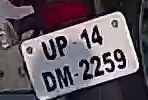1: (81, 29, 94, 51)
2: (77, 56, 94, 82), (90, 56, 105, 81)
4: (91, 26, 106, 47)
5: (102, 51, 116, 76)
9: (112, 48, 129, 70)
D: (41, 71, 58, 93)
M: (56, 64, 75, 91)
P: (56, 37, 71, 60)
U: (42, 39, 57, 63)
